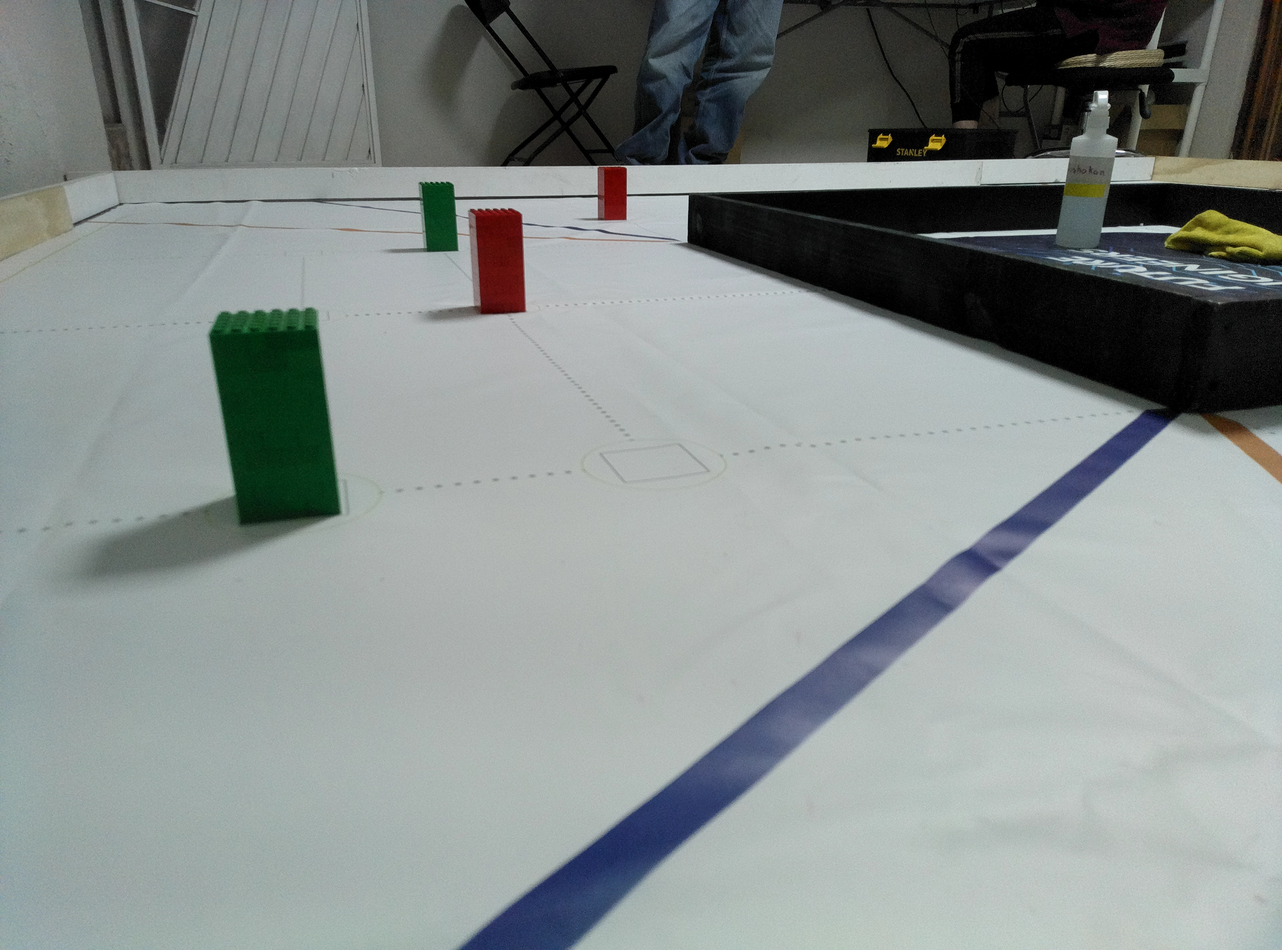greenbox: (201, 308, 345, 528), (417, 181, 461, 253)
redbox: (466, 208, 527, 315), (596, 166, 628, 222)
